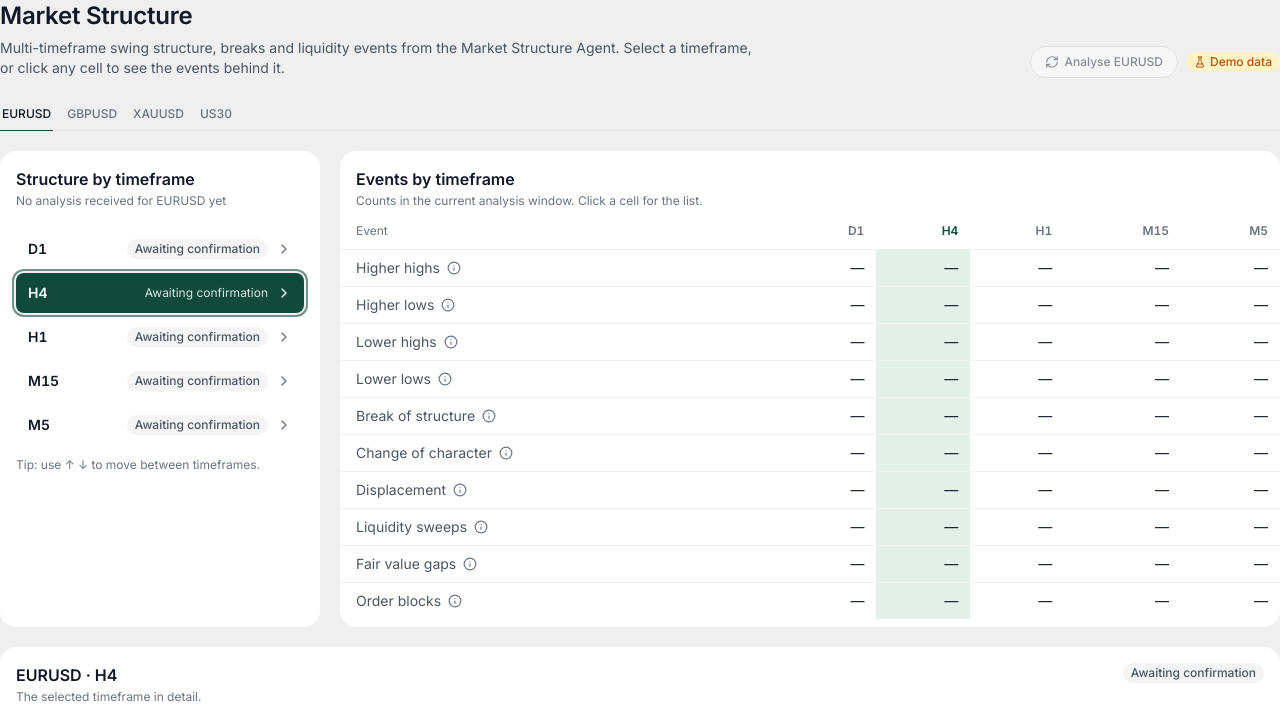
Scenario: Market Structure drill-down › moves between timeframes with arrow keys and opens a cell in the drawer
Press Arrowdown
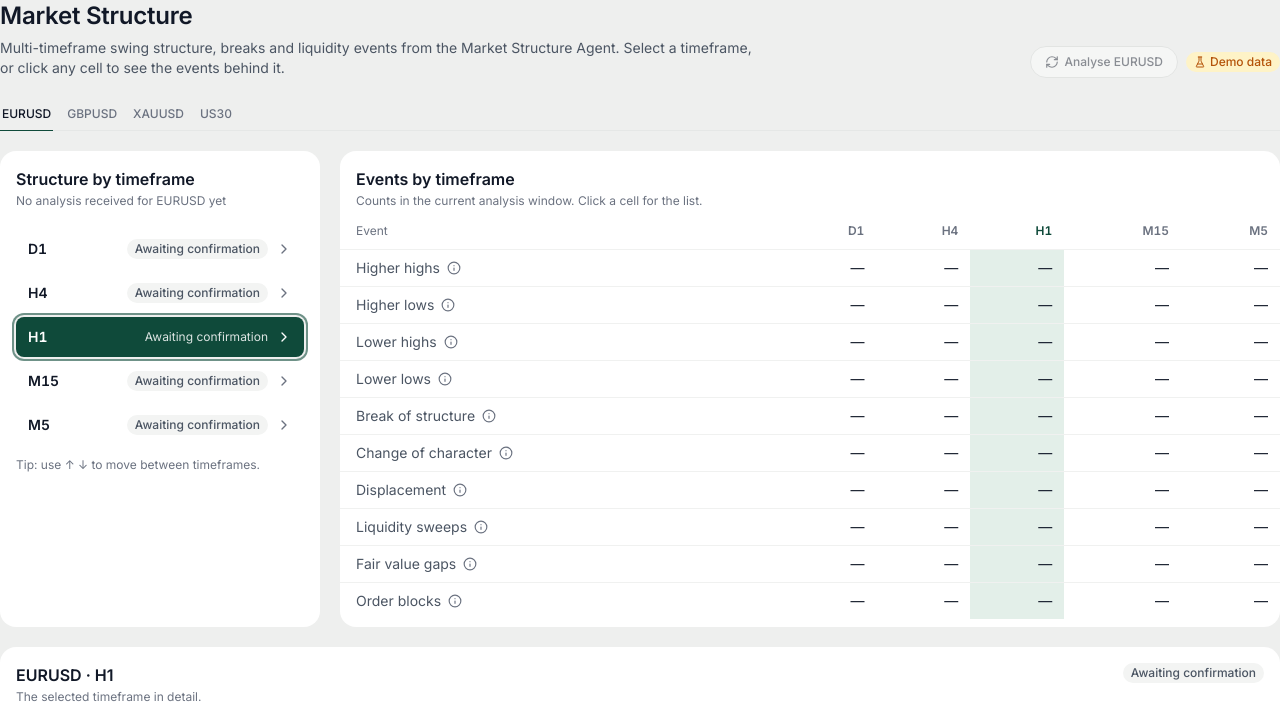
Result: the option "H1 Awaiting confirmation" is selected at left=16, top=317, right=304, bottom=357
Click the button named "Break of structure on M15: awaiting analysis".
click(1123, 416)  # box left=1068, top=402, right=1177, bottom=430
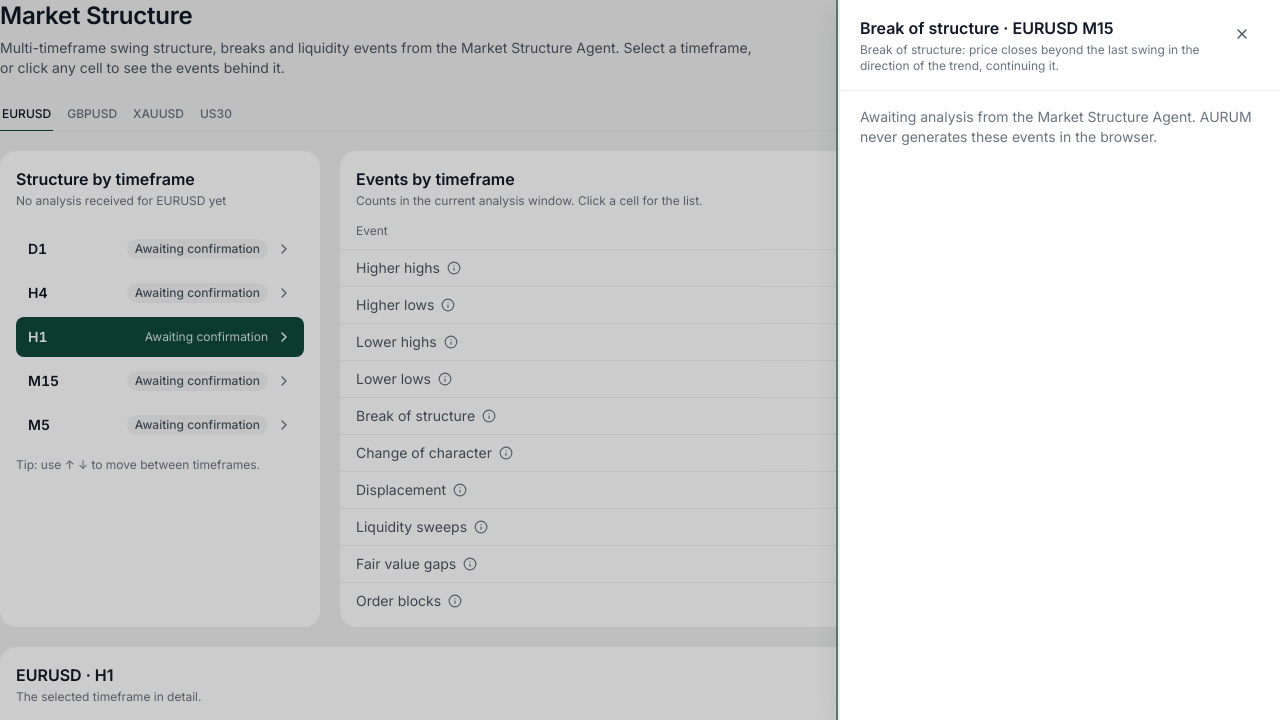
Result: the text "never generates these events" is shown at left=860, top=108, right=1252, bottom=145
